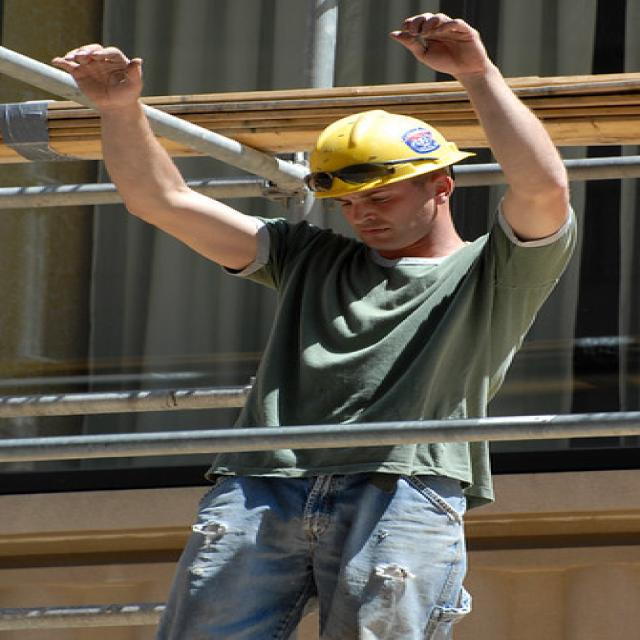Safety-Helmet: (294, 105, 476, 188)
